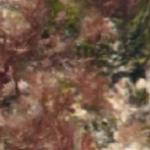alive: (3, 1, 149, 147)
